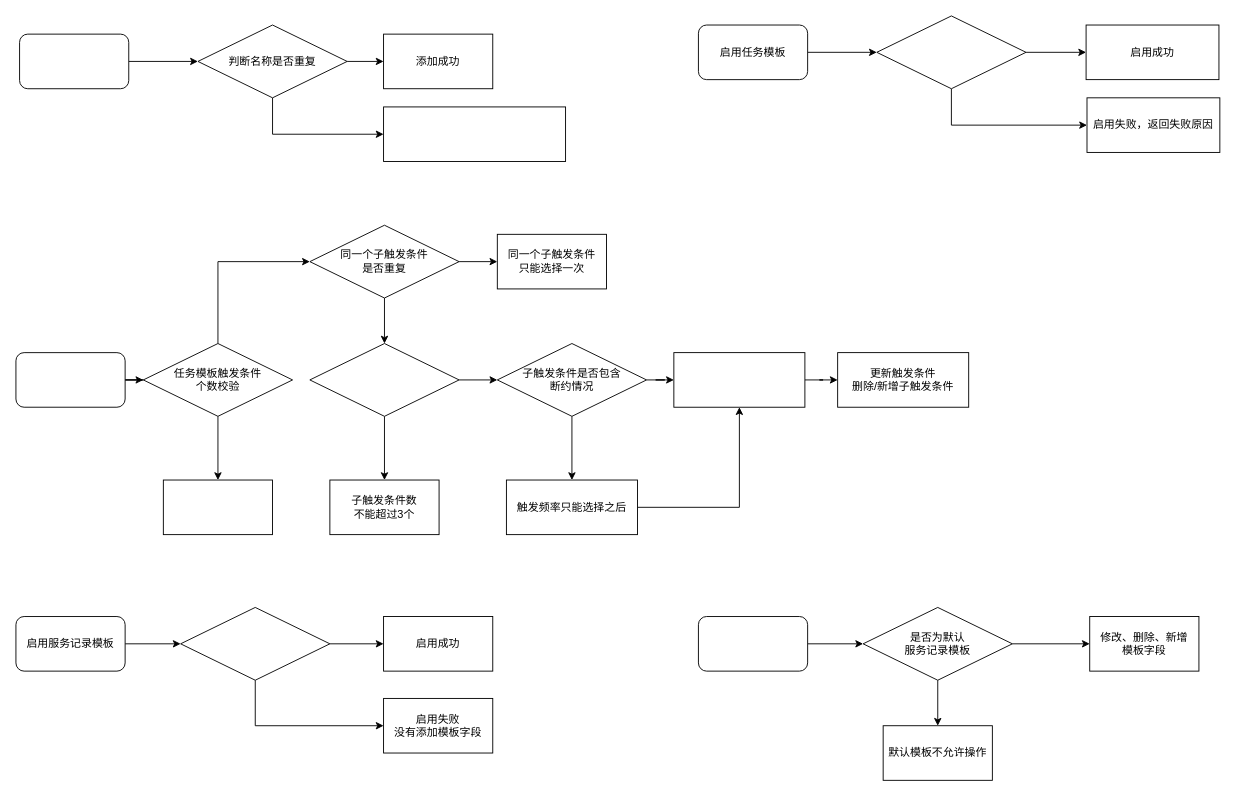
Some shapes in this 1236 by 796 pixel diagram are drawn without their labels. The shapes that lost their labels are listed below. From the top down, each one's box as (x1, y1, x2, y2) in pixels, then its label:
(19, 33, 129, 89): 添加任务模板
(876, 15, 1026, 89): 触发条件&负责角色& 完成模板信息是否完善
(383, 106, 566, 162): 添加失败 已经存在相同名称的任务模板
(15, 352, 125, 407): 修改任务模板 触发条件
(309, 343, 459, 416): 子触发条件数 是否超过3个
(673, 352, 805, 407): 删除原触发条件生成的 未完成的任务
(162, 479, 273, 535): 同一个任务模板最多支持添加3个触发条件
(180, 607, 330, 680): 是否添加了模板 字段组件
(698, 616, 808, 671): 编辑服务记录 模板字段
